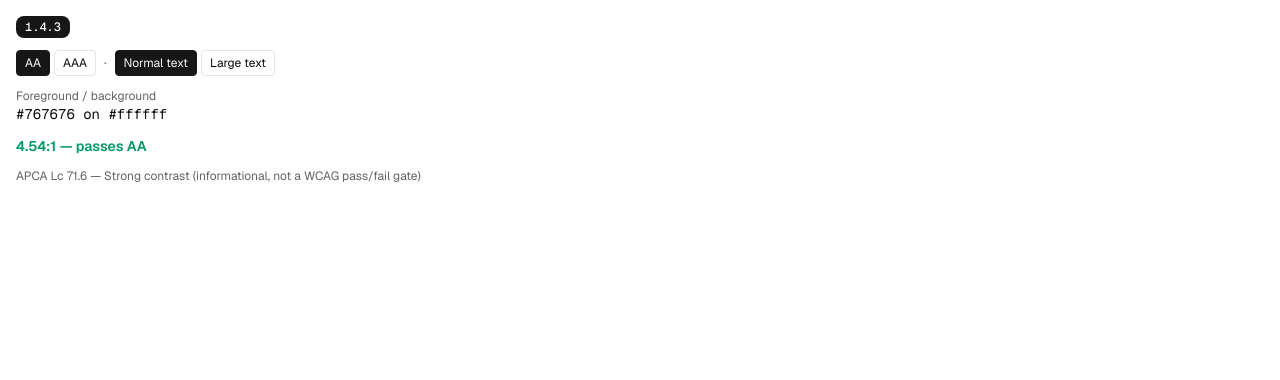
Test: ContrastFix › verdict label reflects the selected large-text target, not just AA-normal (regression: contrastVerdict ignored largeText)
Click the button with test id "target-level-aaa" at (75, 63), box [54, 50, 96, 76]
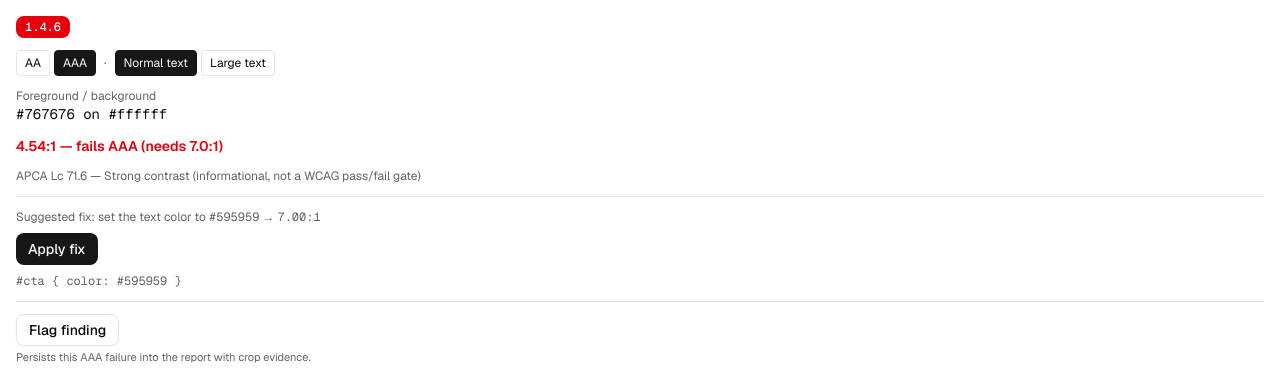
Click the button with test id "target-size-large" at (238, 63), box [201, 50, 275, 76]
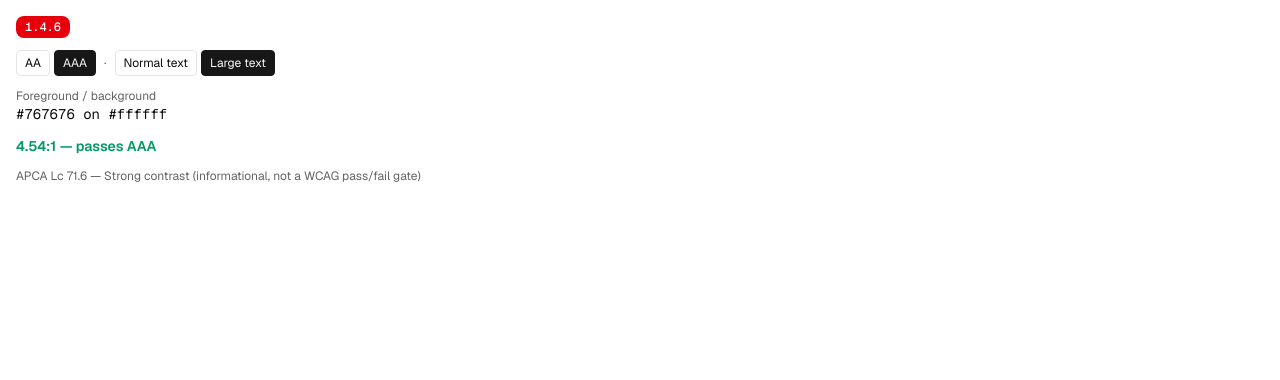
Check: the text with test id "contrast-verdict" shows "passes AAA", box [76, 137, 156, 155]
